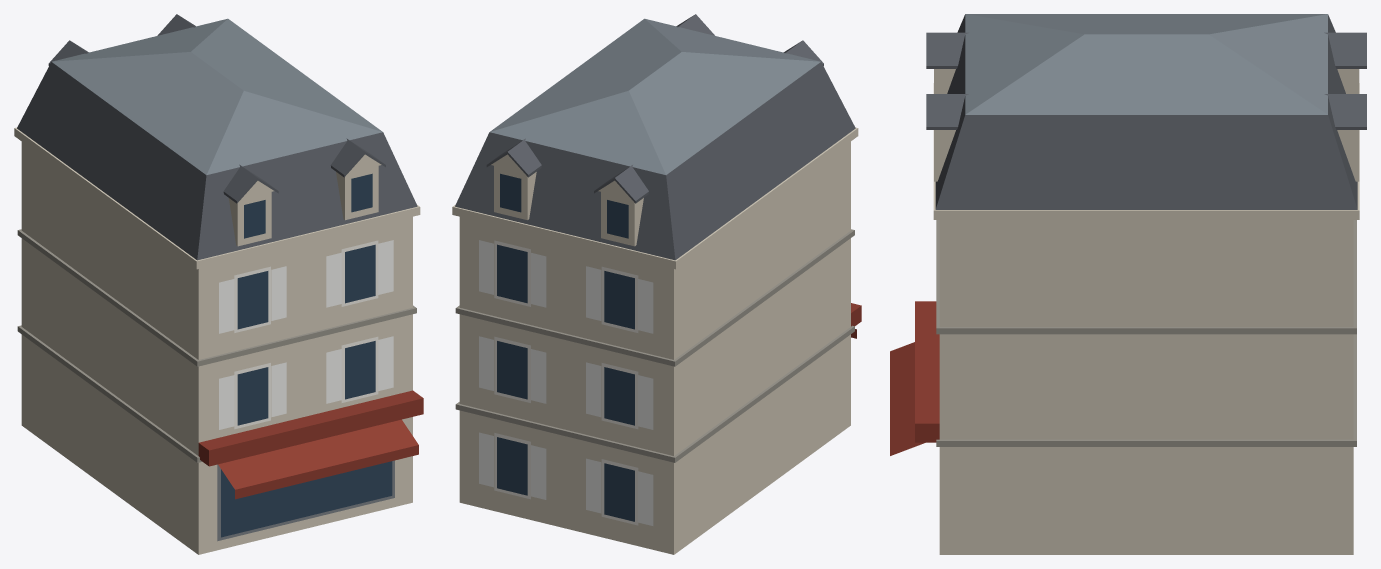
Rendered from boucherie_charcuterie.glb.
3 renders of one model, left to right at view 1: azimuth 30°, elevation 25°; view 2: azimuth 150°, elevation 25°; view 3: azimuth 270°, elevation 25°, orthographic. The views are drawn at different scales.
Parts seen in each view (by area): view 1: boucherie_charcuterie; view 2: boucherie_charcuterie; view 3: boucherie_charcuterie.
Boxes of the visible parts, x1,y1,x2,y2 form: boucherie_charcuterie: (14, 14, 423, 554); boucherie_charcuterie: (452, 14, 861, 554); boucherie_charcuterie: (890, 14, 1366, 554).
Bounding box in the file's own units: 7.3 × 12.25 × 11.52.
Materials: 1 (1 with a texture image).
